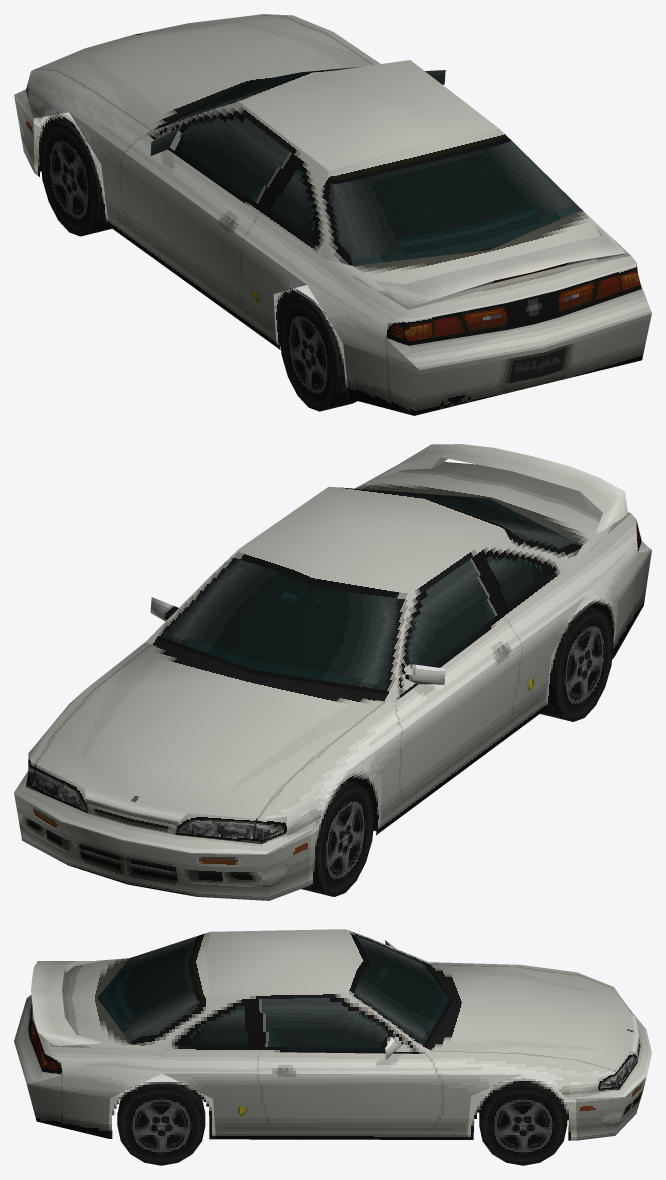
File: GT_SIMULATION__NS14N_DAY.glb
3 views of the same model, one above another, from view 1: azimuth 30°, elevation 25°; view 2: azimuth 150°, elevation 25°; view 3: azimuth 270°, elevation 25° (orthographic). The views are drawn at different scales.
Visible parts, largest first — view 1: Native body LOD0, Native wheel 2, Native wheel 0; view 2: Native body LOD0, Native wheel 2, Native wheel 0; view 3: Native body LOD0, Native wheel 3, Native wheel 1.
Part boxes in pixels (bbox=[...]): Native body LOD0: bbox=[14, 14, 651, 415]; Native wheel 2: bbox=[279, 296, 357, 411]; Native wheel 0: bbox=[40, 120, 111, 236]; Native body LOD0: bbox=[14, 444, 651, 900]; Native wheel 2: bbox=[540, 607, 613, 721]; Native wheel 0: bbox=[301, 781, 374, 896]; Native body LOD0: bbox=[14, 929, 651, 1140]; Native wheel 3: bbox=[117, 1084, 205, 1165]; Native wheel 1: bbox=[479, 1081, 567, 1165].
Size of the model in its own units: 1.82 by 1.28 by 4.52.
Materials: 13 (12 with a texture image).
